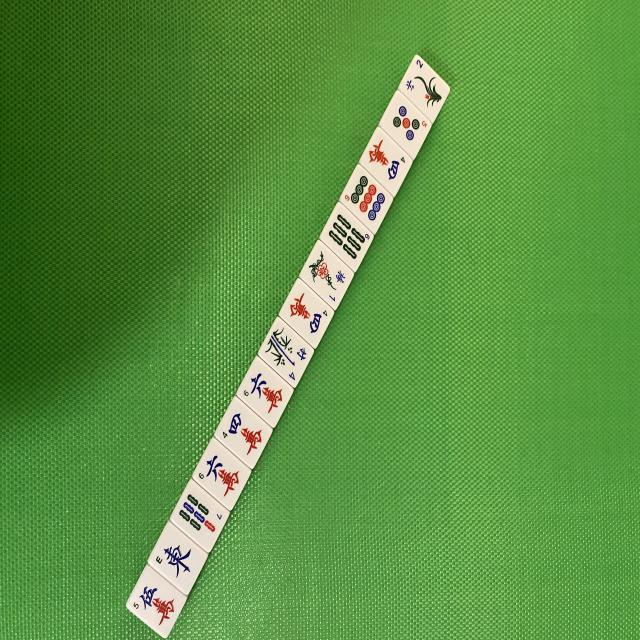bf1: (298, 242, 354, 312)
bf2: (398, 54, 452, 122)
bf4: (257, 314, 316, 389)
hwe: (146, 520, 210, 596)
sb6: (320, 203, 376, 273)
sb7: (169, 478, 232, 552)
sc4: (213, 396, 276, 471), (278, 278, 336, 350), (357, 128, 415, 198)
sc5: (125, 563, 188, 639)
sc6: (234, 354, 296, 429), (190, 436, 252, 511)
sd5: (377, 90, 435, 160)
sd9: (336, 164, 394, 232)
